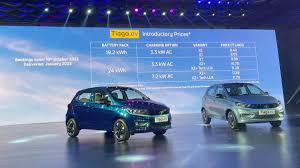Tiago: (62, 84, 175, 145), (197, 81, 287, 133)
